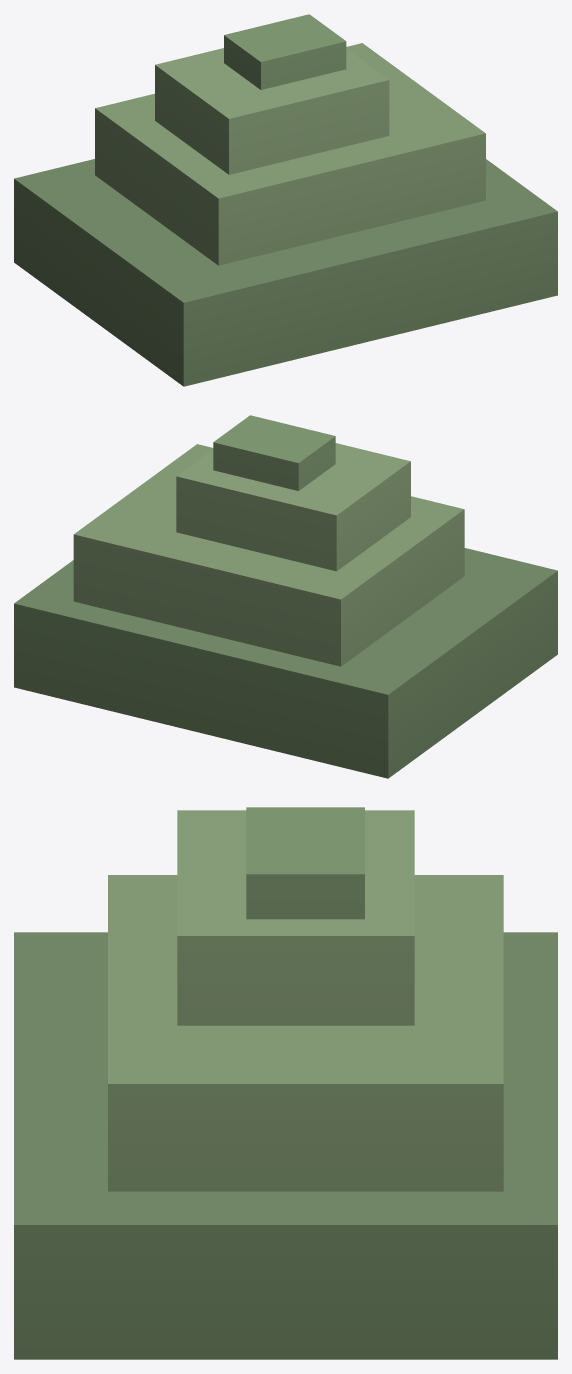
File: hill.glb
The picture shows the model from 3 angles, top to bottom: view 1: azimuth 30°, elevation 25°; view 2: azimuth 150°, elevation 25°; view 3: azimuth 270°, elevation 25°; orthographic projection. The views are drawn at different scales.
Visible parts, largest first — view 1: root; view 2: root; view 3: root.
Boxes of the visible parts, x1,y1,x2,y2 form: root: (14,14,557,386); root: (14,415,557,778); root: (14,807,557,1359).
Bounding box in the file's own units: 7 × 4.2 × 5.5.
